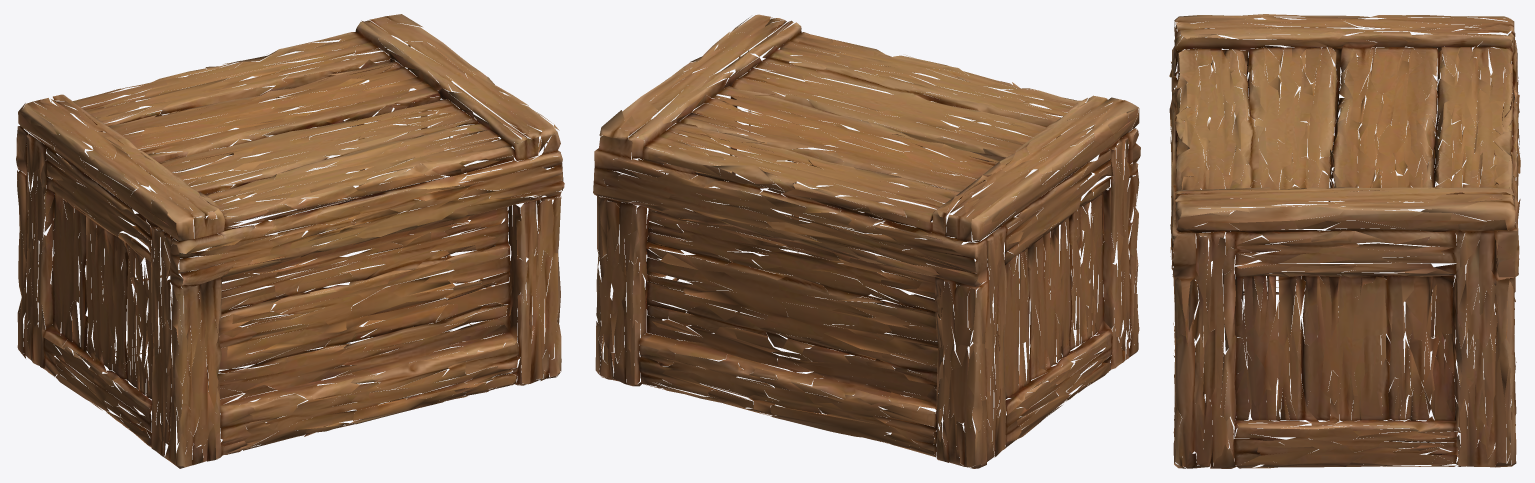
Rendered from caja_madera.glb.
The picture shows the model from 3 angles, left to right: view 1: azimuth 30°, elevation 25°; view 2: azimuth 150°, elevation 25°; view 3: azimuth 270°, elevation 25°; orthographic projection. The views are drawn at different scales.
Parts seen in each view (by area): view 1: tripo_node_49a26c49-cd66-42d8-800d-c8e9bae9accc; view 2: tripo_node_49a26c49-cd66-42d8-800d-c8e9bae9accc; view 3: tripo_node_49a26c49-cd66-42d8-800d-c8e9bae9accc.
Boxes of the visible parts, <box> form: tripo_node_49a26c49-cd66-42d8-800d-c8e9bae9accc: <box>16,14,564,468</box>; tripo_node_49a26c49-cd66-42d8-800d-c8e9bae9accc: <box>593,14,1140,468</box>; tripo_node_49a26c49-cd66-42d8-800d-c8e9bae9accc: <box>1169,14,1520,468</box>.
Bounding box in the file's own units: 0.9878 × 0.6153 × 0.7379.
Materials: 1 (1 with a texture image).
